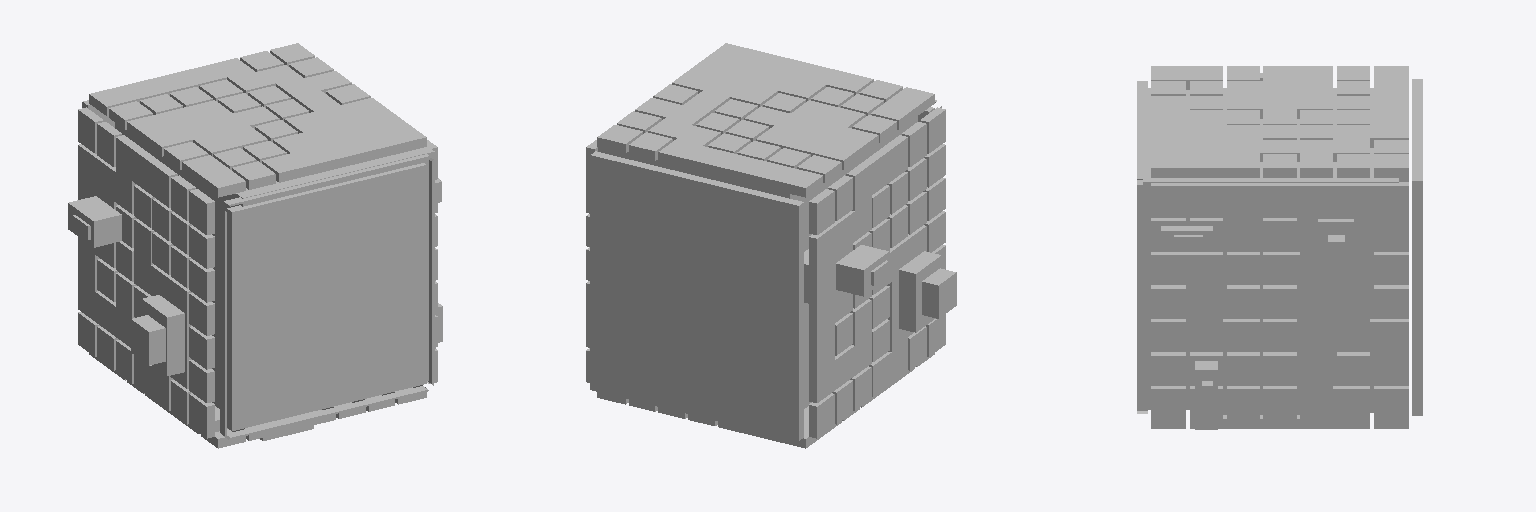
The model's file is city_block3.obj.
3 views of the same model, side by side, from view 1: azimuth 30°, elevation 25°; view 2: azimuth 150°, elevation 25°; view 3: azimuth 270°, elevation 25° (orthographic).
Parts seen in each view (by area): view 1: Cube.002, Cube.003, Cube.014, Cube.017, Cube.015; view 2: Cube.002, Cube.003, Cube.014, Cube.017, Cube.015; view 3: Cube.002, Cube.003, Cube.006, Cube.007, Cube.004, Cube.008.
Boxes of the visible parts, x1,y1,x2,y2 form: Cube.002: [78, 43, 437, 448]; Cube.003: [115, 123, 434, 408]; Cube.014: [142, 295, 184, 375]; Cube.017: [68, 196, 121, 247]; Cube.015: [131, 315, 165, 365]; Cube.002: [586, 43, 945, 448]; Cube.003: [598, 116, 917, 408]; Cube.014: [899, 251, 941, 332]; Cube.017: [836, 245, 888, 296]; Cube.015: [922, 268, 956, 318]; Cube.002: [1137, 66, 1422, 428]; Cube.003: [1143, 88, 1398, 409]; Cube.006: [1318, 219, 1353, 319]; Cube.007: [1328, 235, 1344, 311]; Cube.004: [1195, 361, 1217, 429]; Cube.008: [1161, 226, 1212, 250].
Bounding box in the file's own units: 2.56 × 2.32 × 2.14.